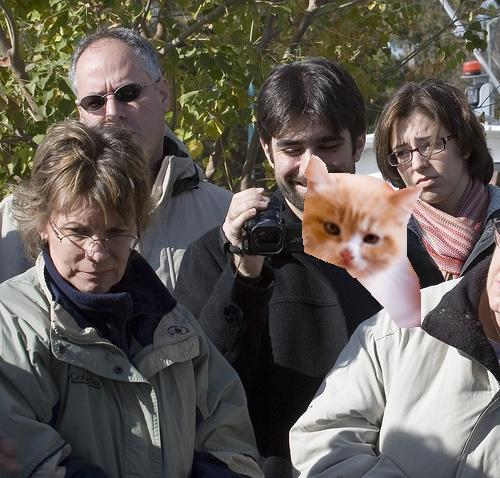tampered: (303, 155, 423, 328)
